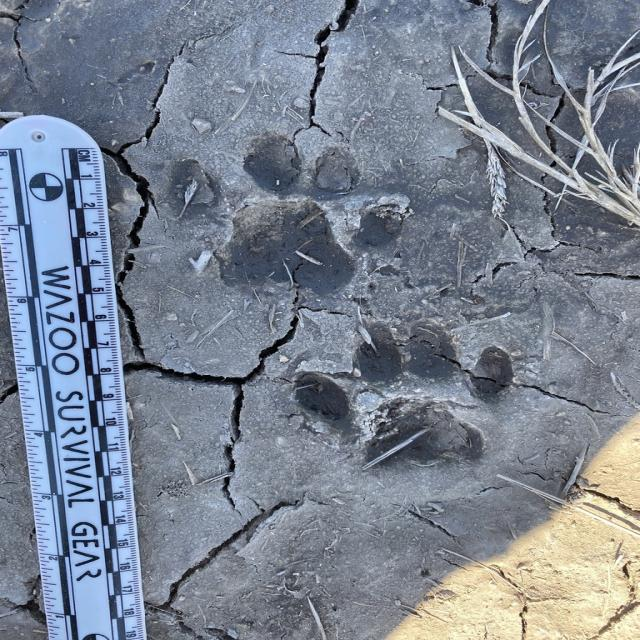felid: (175, 137, 398, 295), (298, 324, 514, 484)
